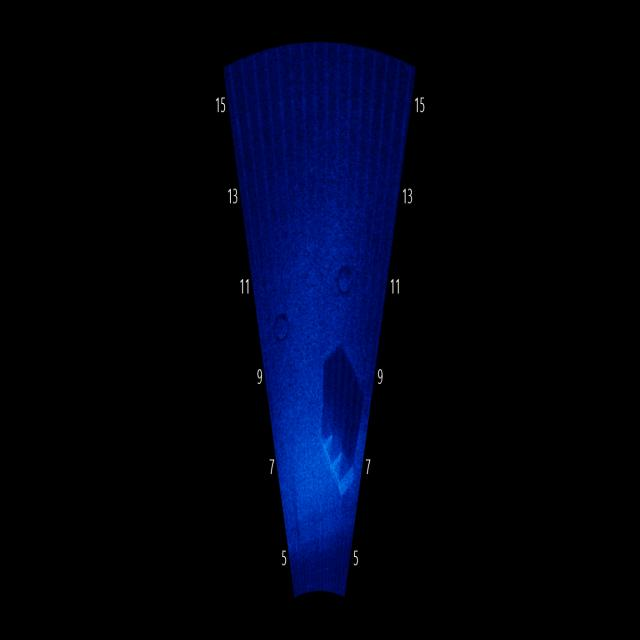square: (314, 406, 358, 510)
